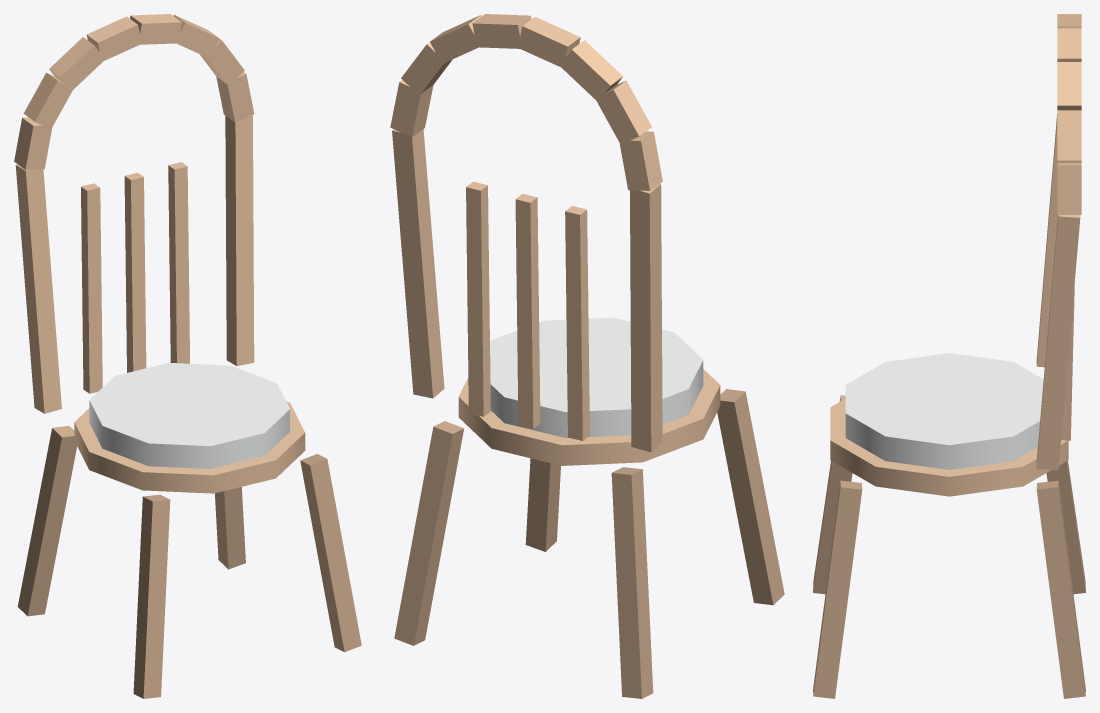
The model's file is chairRattan.glb.
3 renders of one model, left to right at view 1: azimuth 30°, elevation 25°; view 2: azimuth 150°, elevation 25°; view 3: azimuth 270°, elevation 25°, orthographic. The views are drawn at different scales.
Visible parts, largest first — view 1: chairRattan; view 2: chairRattan; view 3: chairRattan.
Boxes of the visible parts, left/top/right/bottom form: chairRattan: left=14, top=14, right=361, bottom=698; chairRattan: left=390, top=14, right=784, bottom=698; chairRattan: left=813, top=14, right=1085, bottom=698.
Size of the model in its own units: 0.2621 by 0.6235 by 0.2502.
